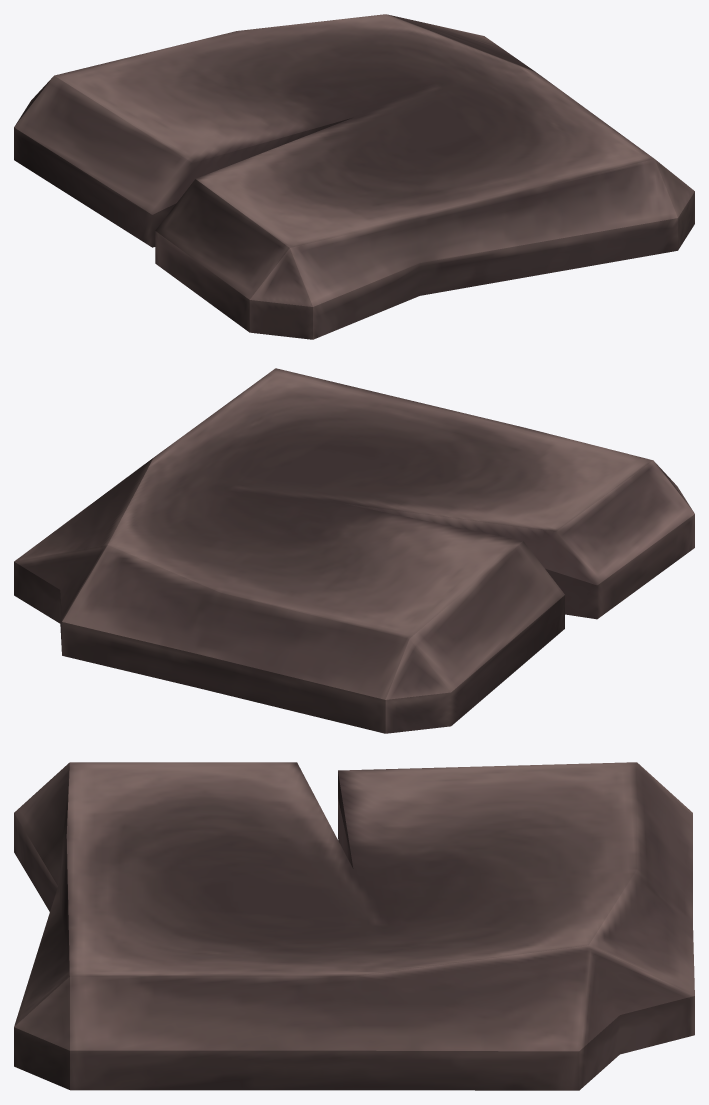
The model's file is rock_15.fbx.
3 views of the same model, one above another, from view 1: azimuth 30°, elevation 25°; view 2: azimuth 150°, elevation 25°; view 3: azimuth 270°, elevation 25° (orthographic). The views are drawn at different scales.
Parts seen in each view (by area): view 1: rock_15; view 2: rock_15; view 3: rock_15.
Boxes of the visible parts, x1=… form: rock_15: x1=14, y1=14, x2=694, y2=339; rock_15: x1=14, y1=368, x2=694, y2=733; rock_15: x1=14, y1=762, x2=694, y2=1090.
Size of the model in its own units: 0.7883 by 0.1262 by 0.8654.
